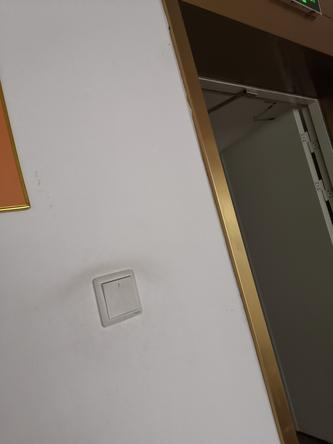switch: (100, 269, 142, 323)
